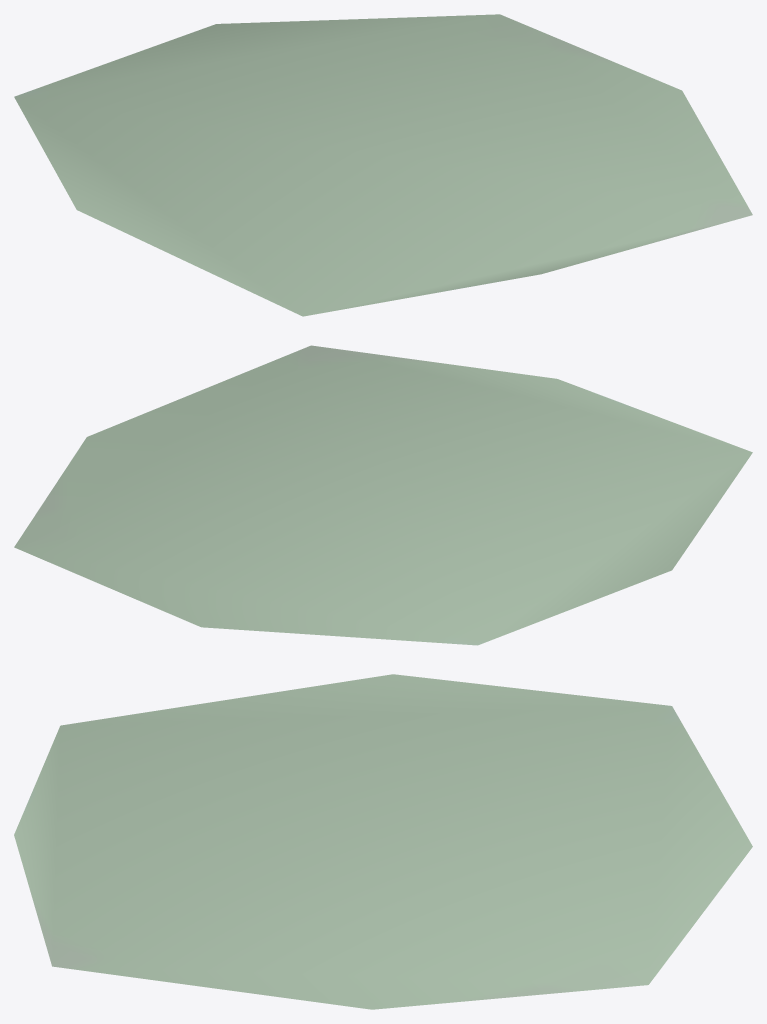
File: TROLLHOLE02_HOLECAP211.fbx
3 views of the same model, one above another, from view 1: azimuth 30°, elevation 25°; view 2: azimuth 150°, elevation 25°; view 3: azimuth 270°, elevation 25° (orthographic). The views are drawn at different scales.
Parts seen in each view (by area): view 1: TROLLHOLE02_HOLECAP211; view 2: TROLLHOLE02_HOLECAP211; view 3: TROLLHOLE02_HOLECAP211.
Boxes of the visible parts, left/top/right/bottom form: TROLLHOLE02_HOLECAP211: left=14, top=14, right=752, bottom=316; TROLLHOLE02_HOLECAP211: left=14, top=345, right=752, bottom=645; TROLLHOLE02_HOLECAP211: left=14, top=674, right=752, bottom=1009.
Bounding box in the file's own units: 13183 × 541 × 13066.
1 material, 1 textured.
